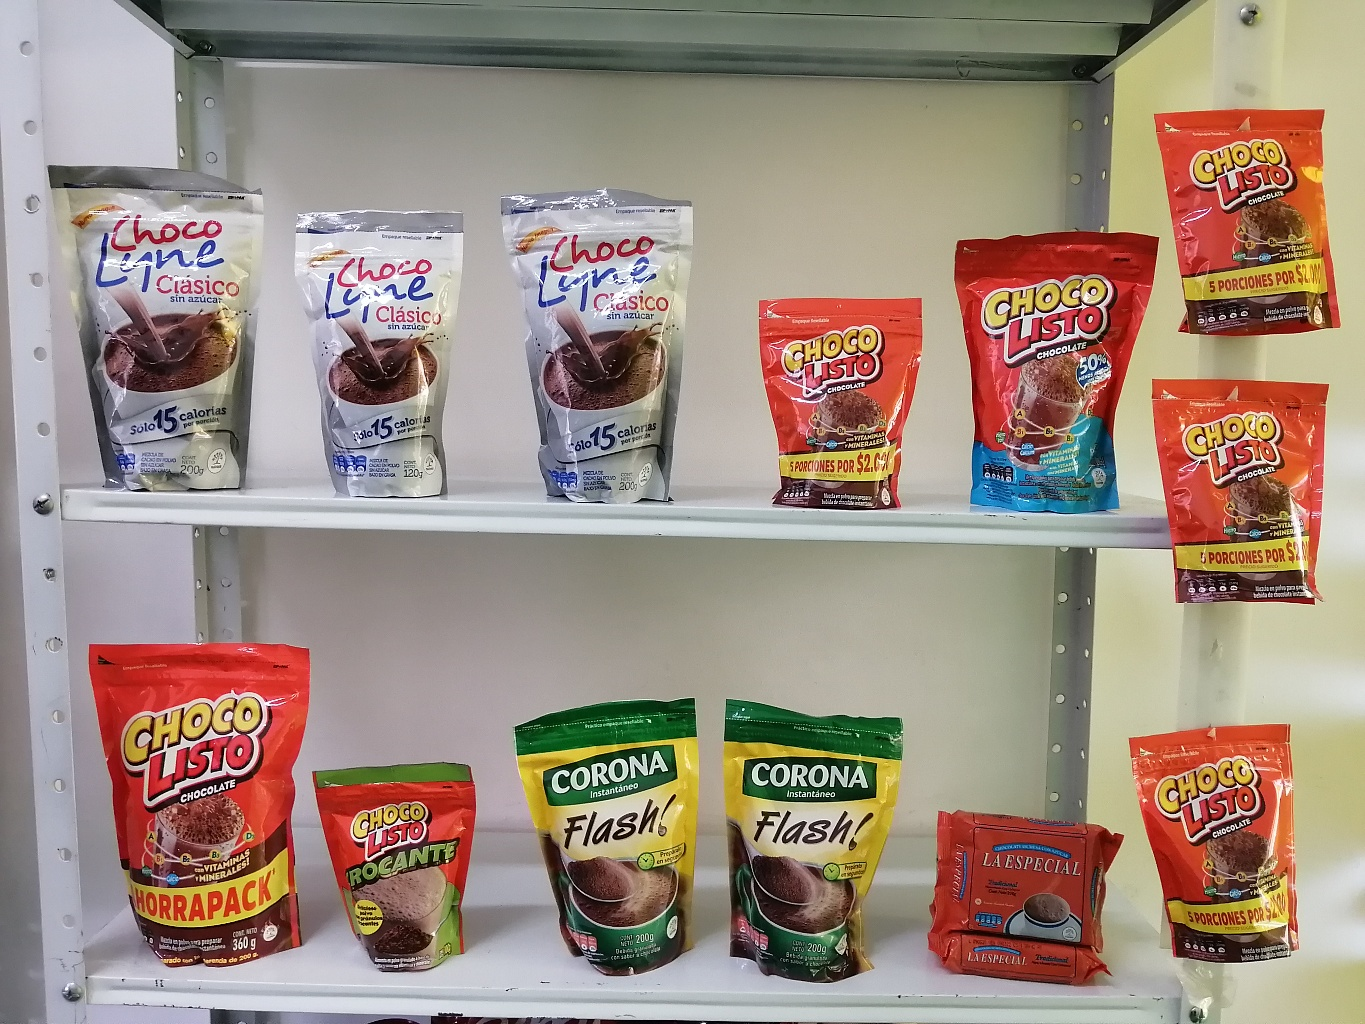COL0170102DYP10000: (301, 744, 489, 987)
COL0170103DYP36000: (72, 626, 321, 980)
COL0170104DYP20000: (940, 215, 1164, 525)
